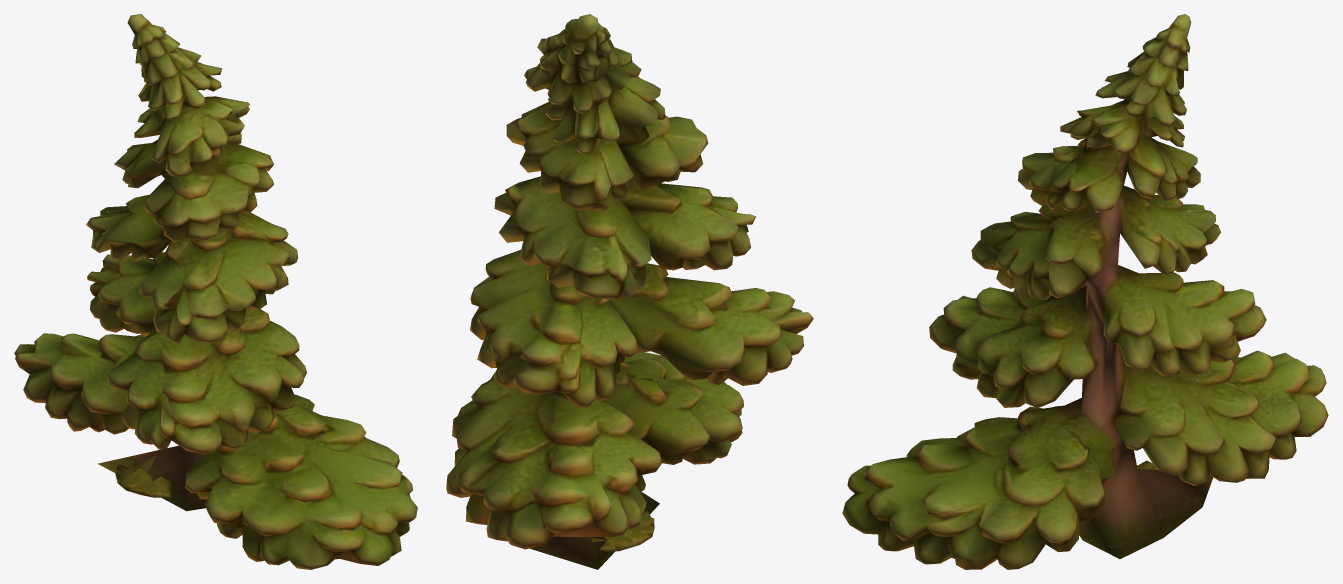
The model's file is pine_2.glb.
3 views of the same model, side by side, from view 1: azimuth 30°, elevation 25°; view 2: azimuth 150°, elevation 25°; view 3: azimuth 270°, elevation 25° (orthographic). The views are drawn at different scales.
Visible parts, largest first — view 1: tripo_node_4a37c4da-4045-4812-9558-d8612efd2fe9; view 2: tripo_node_4a37c4da-4045-4812-9558-d8612efd2fe9; view 3: tripo_node_4a37c4da-4045-4812-9558-d8612efd2fe9.
Boxes of the visible parts, box(x1,y1,x2,y2) form: tripo_node_4a37c4da-4045-4812-9558-d8612efd2fe9: box(14, 14, 417, 569); tripo_node_4a37c4da-4045-4812-9558-d8612efd2fe9: box(446, 14, 813, 569); tripo_node_4a37c4da-4045-4812-9558-d8612efd2fe9: box(842, 14, 1328, 569).
Size of the model in its own units: 4.33 by 7.4 by 6.82.
1 material, 1 textured.
